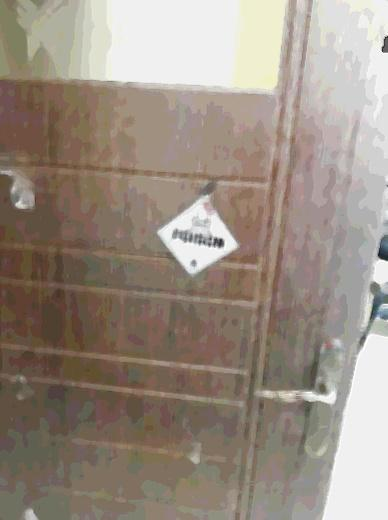poison: (156, 195, 241, 278)
